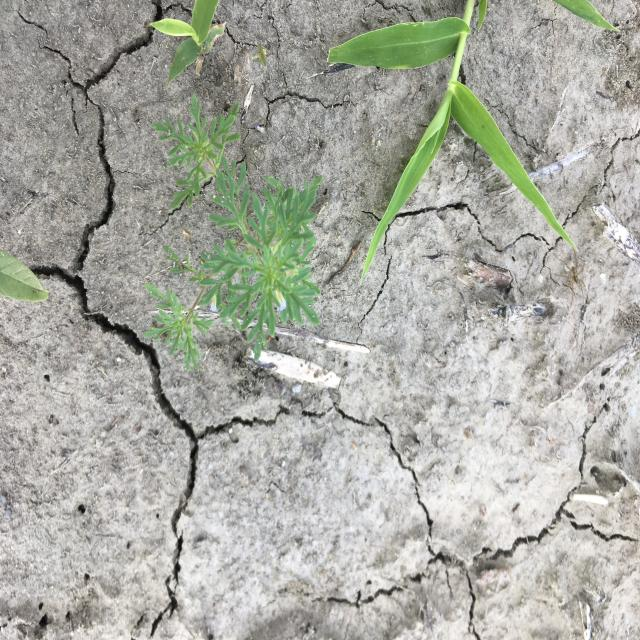Ragweed: (140, 93, 324, 374)
